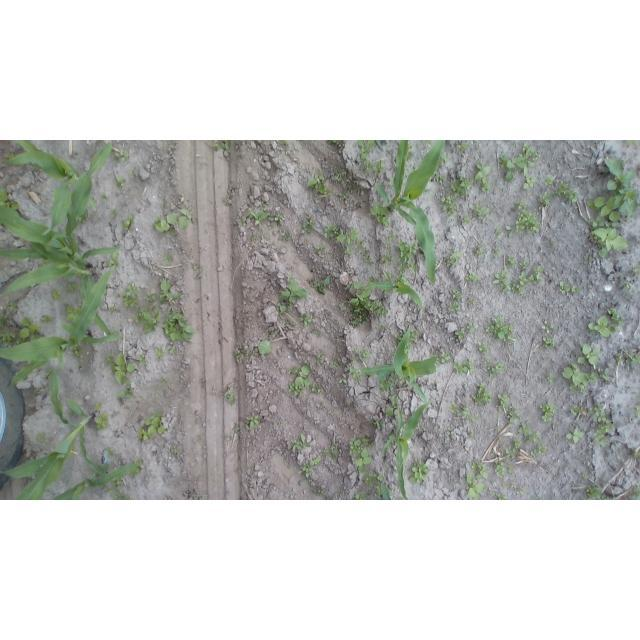Maize: (0, 268, 120, 427), (0, 142, 120, 268), (0, 398, 104, 499), (375, 140, 446, 286), (1, 242, 112, 335), (2, 141, 99, 232), (353, 322, 438, 401), (382, 396, 429, 500), (54, 461, 141, 500), (366, 271, 425, 312), (379, 480, 391, 500)
Weeds: (583, 189, 640, 222), (501, 145, 541, 182), (288, 365, 322, 400), (164, 309, 200, 339), (590, 403, 615, 446), (152, 209, 192, 235), (593, 228, 628, 257), (136, 412, 168, 443), (563, 361, 594, 392), (397, 238, 418, 283), (348, 434, 372, 473), (605, 157, 634, 189), (134, 308, 165, 333), (113, 351, 136, 384), (496, 394, 522, 423), (485, 313, 514, 339), (281, 277, 312, 301), (335, 167, 358, 199), (514, 210, 540, 235), (588, 315, 616, 338), (473, 161, 495, 190), (123, 282, 144, 311), (350, 282, 374, 307), (159, 278, 182, 302), (465, 473, 485, 500), (556, 181, 579, 203), (519, 422, 543, 443), (372, 202, 393, 226), (451, 175, 473, 197), (578, 344, 601, 365), (408, 459, 428, 483), (475, 380, 492, 408), (300, 455, 321, 477), (20, 318, 40, 341), (348, 308, 371, 328), (309, 275, 332, 295), (450, 405, 478, 421), (307, 168, 324, 194), (513, 272, 534, 293), (1, 187, 20, 210), (616, 350, 640, 367), (355, 140, 380, 156), (292, 434, 313, 453), (539, 400, 557, 422), (367, 300, 390, 317), (337, 228, 359, 245), (440, 192, 457, 214), (471, 459, 489, 479), (566, 426, 586, 443), (222, 385, 238, 406), (299, 215, 315, 236), (360, 243, 376, 264), (471, 203, 489, 221), (454, 360, 474, 376), (385, 395, 400, 416), (118, 384, 136, 401), (443, 252, 463, 267), (245, 413, 261, 431), (250, 208, 266, 226), (506, 439, 520, 459), (606, 306, 624, 321), (94, 416, 110, 432), (493, 268, 509, 284), (257, 340, 274, 355), (464, 269, 481, 284), (586, 484, 602, 499), (324, 224, 336, 244), (64, 304, 78, 321), (373, 160, 386, 178), (322, 444, 339, 457), (1, 332, 16, 346), (490, 361, 505, 375), (455, 141, 469, 156), (495, 460, 507, 477), (439, 348, 451, 365), (299, 311, 313, 325), (538, 192, 552, 206), (115, 148, 130, 161), (532, 446, 549, 457), (362, 472, 376, 485), (598, 365, 611, 379), (123, 214, 134, 230), (379, 252, 395, 263), (534, 263, 545, 279), (572, 403, 586, 415), (360, 159, 372, 173), (155, 344, 166, 359), (350, 367, 361, 382), (455, 327, 466, 342), (478, 341, 490, 354), (525, 176, 538, 188), (278, 302, 293, 312), (214, 142, 230, 151), (234, 347, 243, 363), (281, 231, 294, 242), (69, 284, 80, 297), (541, 320, 554, 331), (315, 351, 325, 365), (621, 281, 635, 291), (591, 216, 605, 226), (37, 431, 48, 443), (379, 379, 391, 390), (448, 302, 460, 313), (451, 288, 463, 299), (409, 330, 419, 343), (560, 282, 570, 295), (329, 141, 347, 148), (631, 264, 640, 278), (494, 226, 503, 240), (93, 402, 104, 413), (44, 314, 55, 325), (52, 291, 63, 302), (505, 255, 516, 266), (117, 178, 129, 188), (109, 254, 118, 267), (438, 171, 446, 185), (108, 207, 119, 217), (354, 490, 365, 500), (466, 322, 477, 332), (314, 246, 324, 257), (519, 262, 530, 272), (4, 152, 16, 161), (148, 292, 157, 304), (340, 373, 349, 385), (115, 492, 128, 500), (505, 481, 518, 489), (105, 446, 115, 456), (236, 220, 246, 230), (475, 247, 485, 257), (442, 153, 451, 164), (74, 348, 82, 360), (270, 214, 282, 222), (314, 484, 323, 494), (372, 420, 382, 429), (466, 427, 475, 437), (543, 337, 553, 346), (131, 469, 141, 478), (516, 200, 526, 209), (546, 174, 553, 186), (509, 464, 518, 473), (114, 478, 124, 486), (632, 486, 640, 496), (362, 347, 370, 357), (385, 230, 395, 238), (179, 194, 186, 205), (377, 471, 384, 482), (493, 248, 500, 259), (506, 226, 513, 237), (137, 354, 145, 363), (380, 323, 388, 332), (631, 450, 640, 458), (446, 427, 454, 436), (276, 140, 288, 146), (131, 169, 138, 179), (1, 316, 8, 326), (107, 354, 114, 364), (633, 405, 640, 415), (547, 373, 554, 383), (311, 329, 322, 335), (421, 141, 434, 146), (164, 256, 173, 263), (108, 486, 115, 495), (330, 361, 340, 367), (169, 346, 176, 354), (9, 302, 17, 309), (344, 247, 352, 254), (469, 298, 478, 304), (519, 488, 528, 494), (570, 286, 579, 292), (192, 264, 201, 270), (627, 140, 637, 145), (101, 193, 108, 200), (504, 287, 511, 294), (463, 215, 470, 222), (172, 447, 180, 453), (496, 494, 504, 500), (386, 242, 394, 248), (161, 200, 168, 206), (584, 473, 591, 479)
